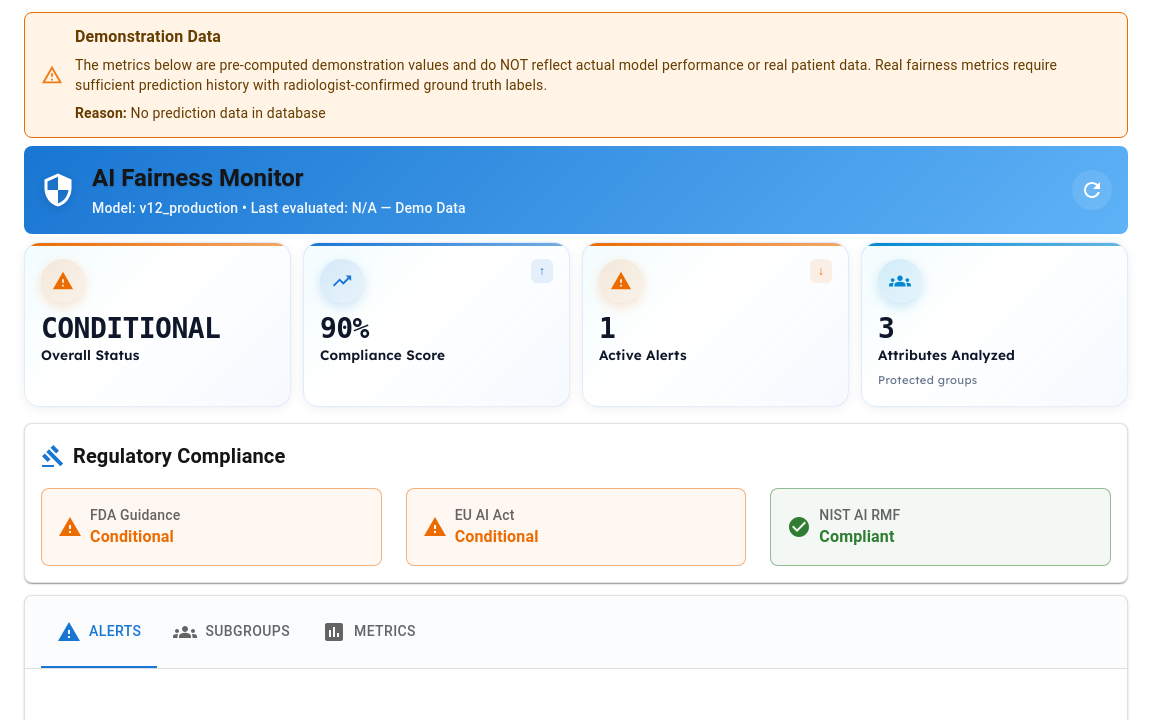
it: FairnessDashboard — Demo Fallback Data › renders 3 attribute cards in Metrics tab
Expected: the heading "AI Fairness Monitor" is shown, [92,164,304,192]
Click the tab "Metrics" at (369, 632), box [306,596,432,668]
(page scrolled)
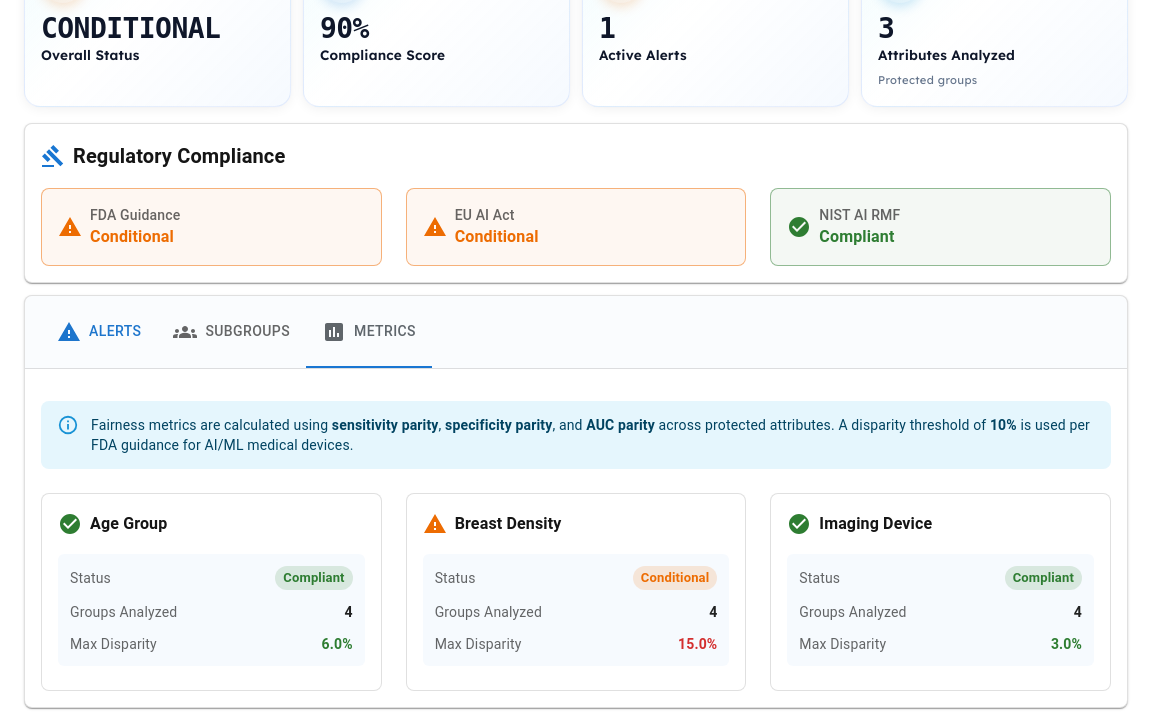
Expected: the text "15.0%" is shown, [678,634,717,654]
Result: the text "6.0%" is shown at [322,634,353,654]
Result: the text "3.0%" is shown at [1051,634,1082,654]
